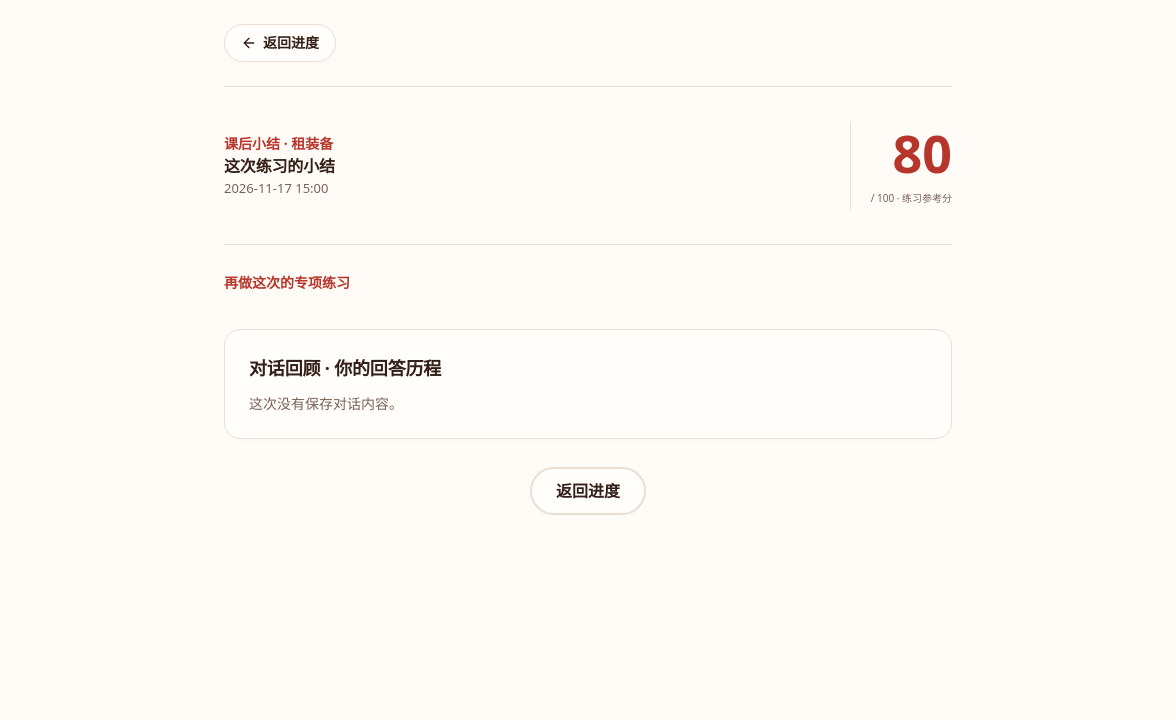
Test: reopens saved coaching exercises from history without a local scene
Step 1. Click the link "再做这次的专项练习" → coordinates (287, 283), box [224,273,350,292]
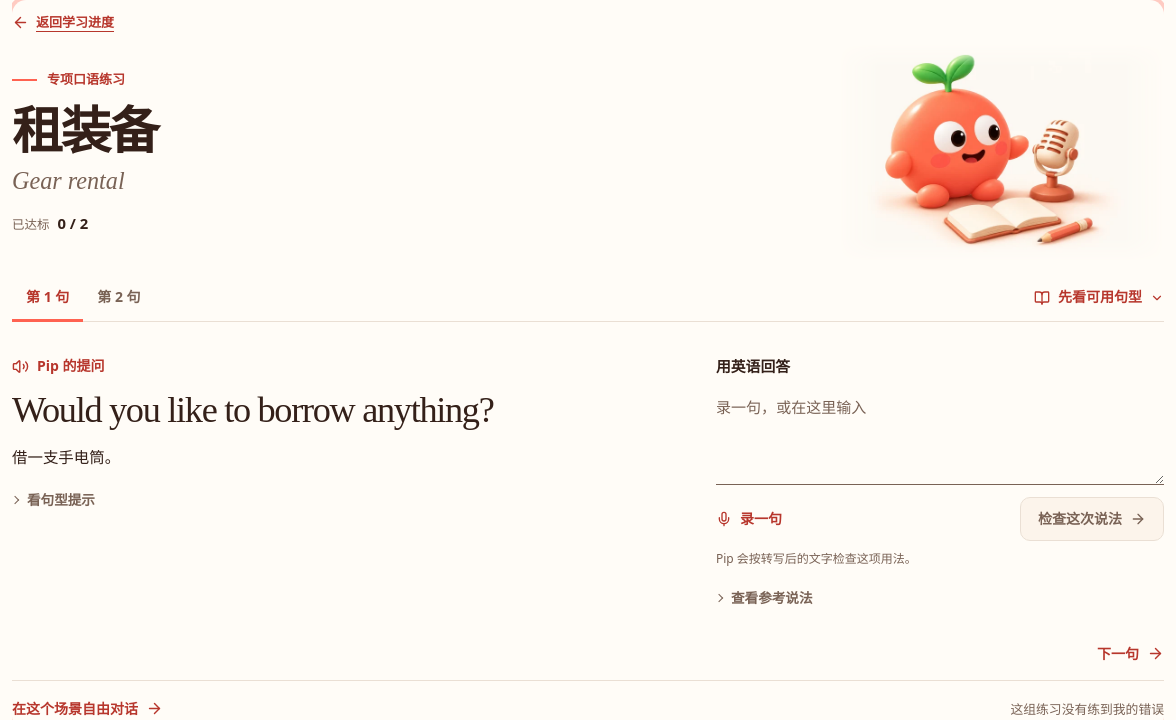
Expected: the heading "Would you like to borrow anything?" is shown, [12,390,494,430]
Step 2. Click the button "下一句" → coordinates (1130, 654), box [1097,632,1164,676]
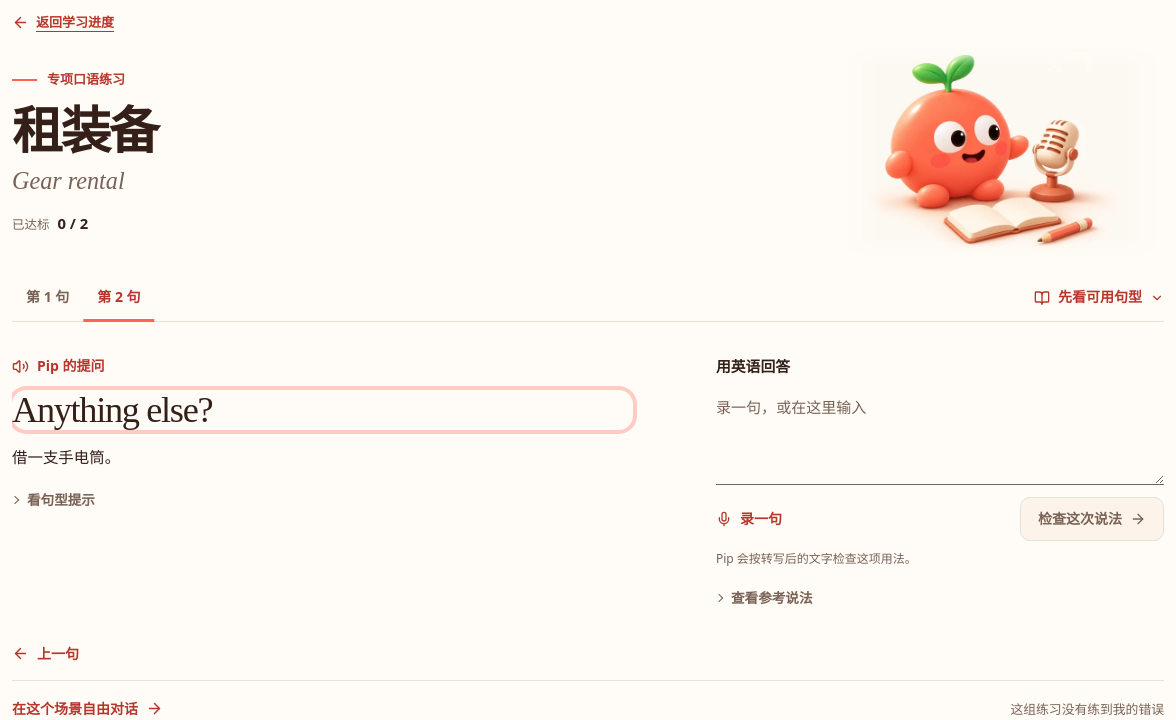
Expected: the heading "Anything else?" is shown, [12,390,633,430]
